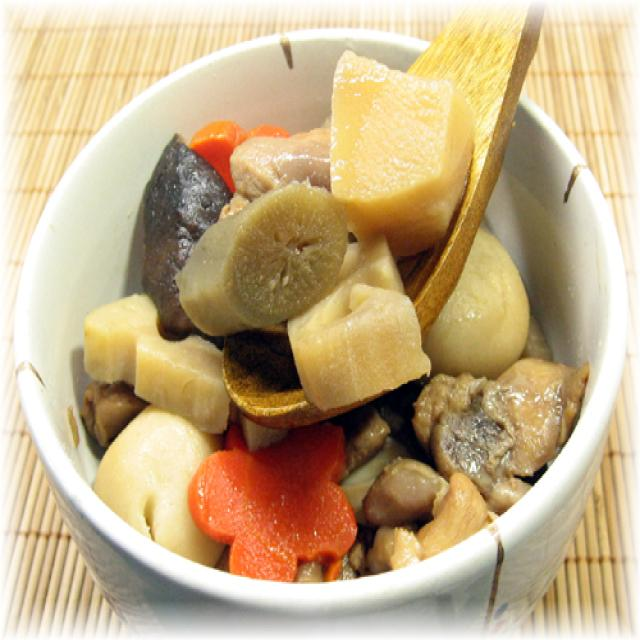鸡肉料理 含炸鸡: (32, 46, 611, 599)
